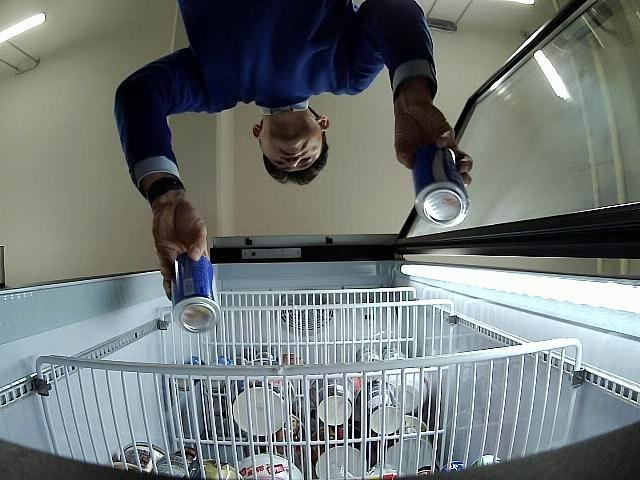13_pocariSweat: (412, 140, 469, 226), (172, 252, 222, 334)
